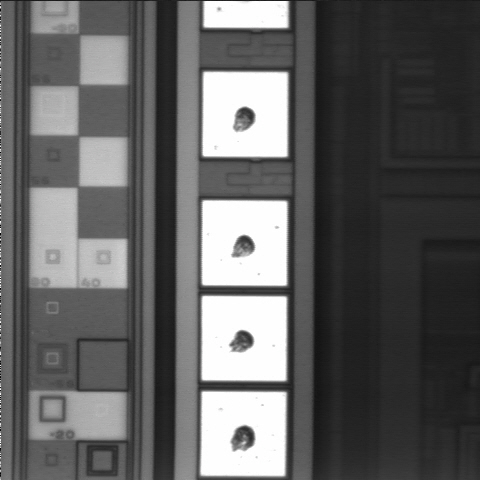pad: (202, 200, 287, 286), (203, 72, 288, 157), (202, 296, 287, 381), (201, 392, 286, 476)
